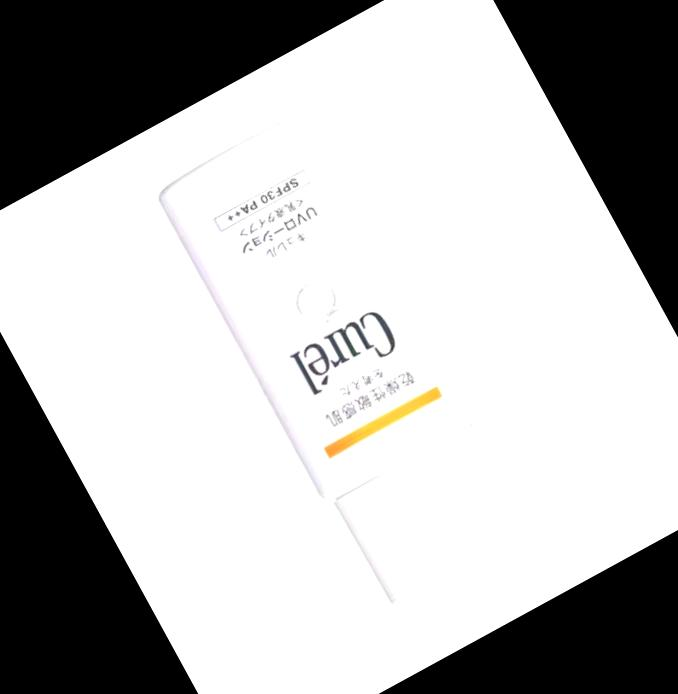cosmetic: (155, 107, 545, 614)
